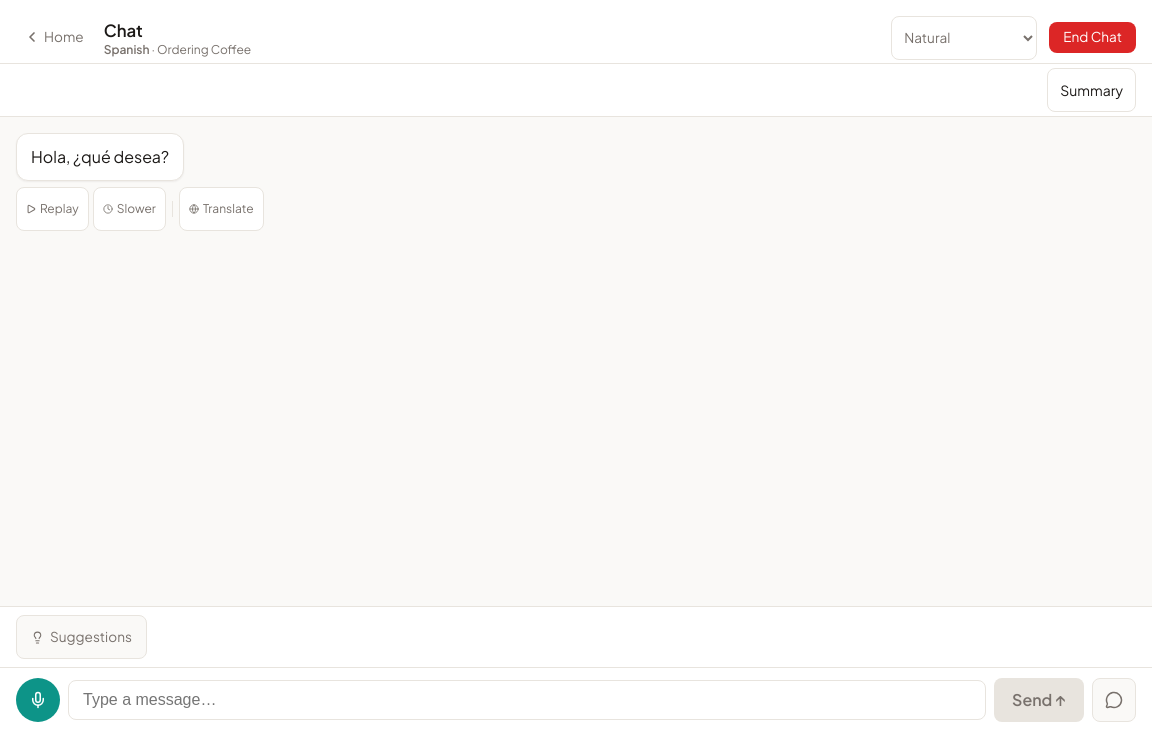
Scenario: Chat — turn status (T043, SC-002, SC-004) › shows the checking indicator and no reply bubble while a corrected turn evaluates
The width and height of the screenshot is (1152, 732).
Type "yo querer un cafe" into the field labelled "Type a message".
click(527, 700); type("yo querer un cafe")  # box [68,680,986,720]
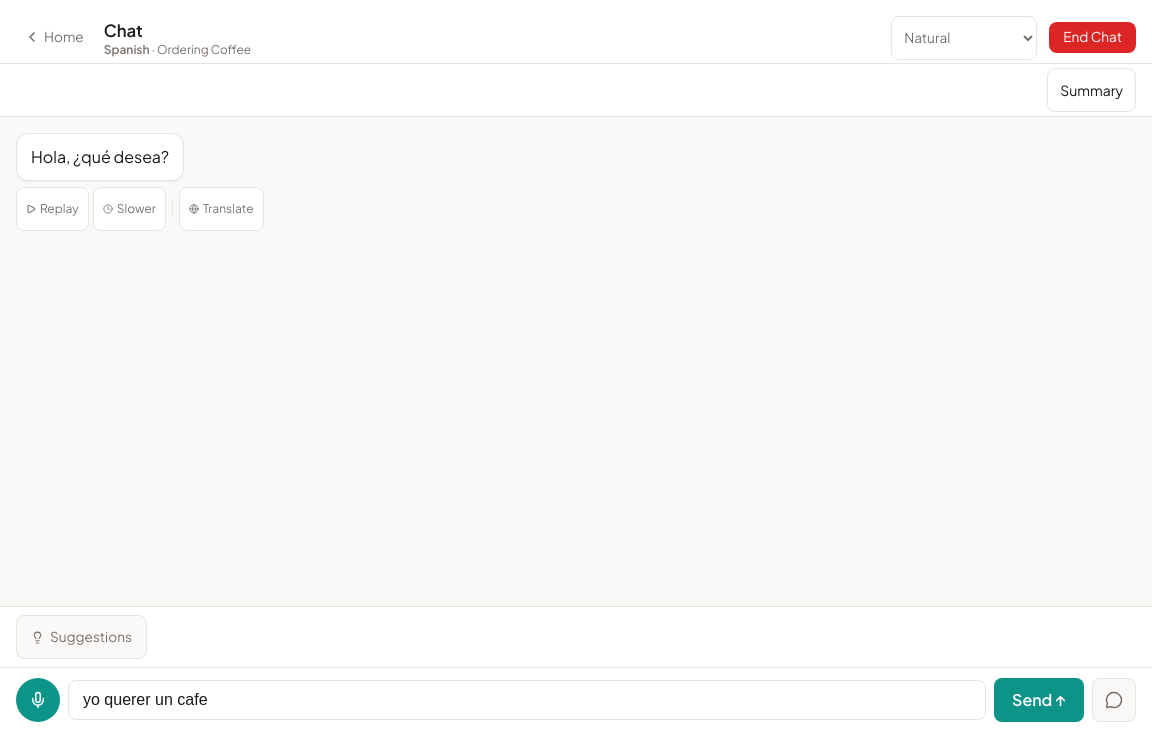
Click the button with aria-label "Send message".
click(1039, 700)  # box [994,678,1084,722]
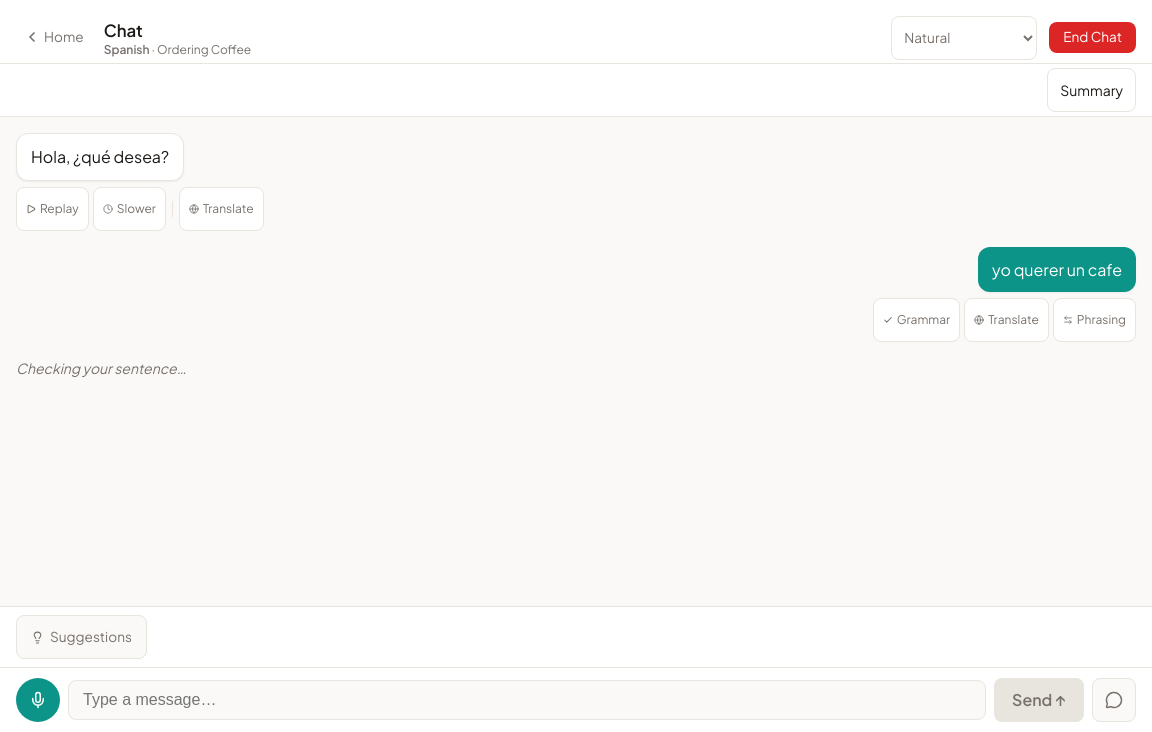
Expected: the text "Checking your sentence…" is shown, [16,359,186,377]
